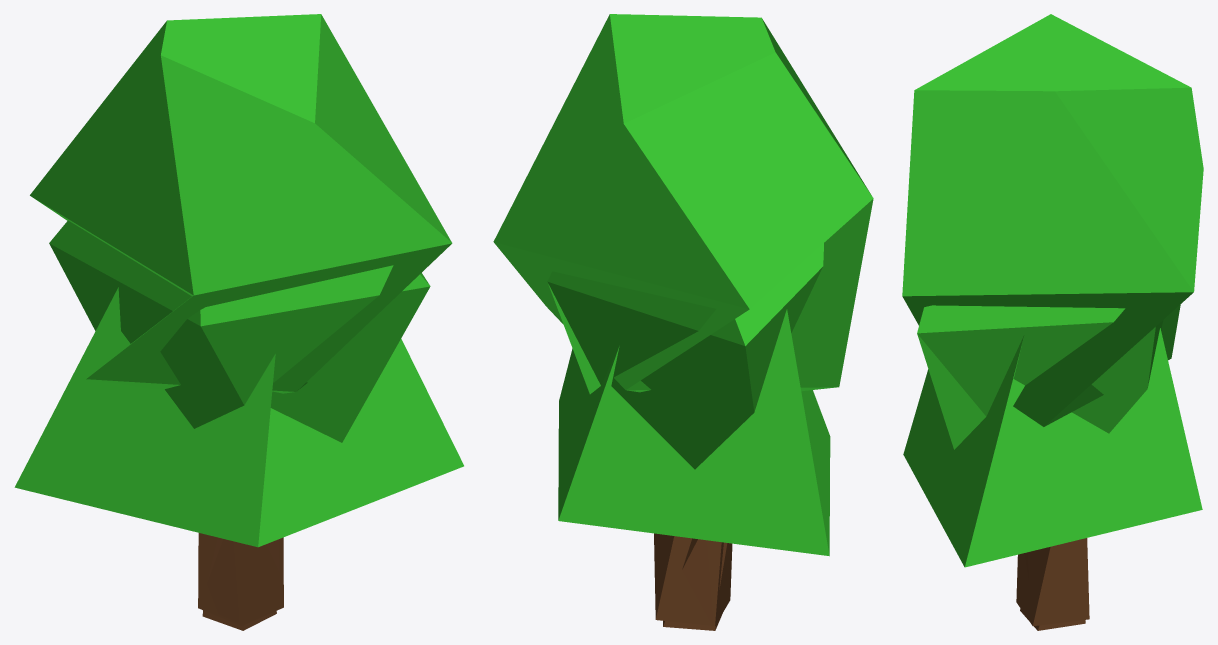
File: TreeModels001.fbx
3 renders of one model, left to right at view 1: azimuth 30°, elevation 25°; view 2: azimuth 150°, elevation 25°; view 3: azimuth 270°, elevation 25°, orthographic. The views are drawn at different scales.
Visible parts, largest first — view 1: Cube.001, Cube, Cube.002; view 2: Cube.001, Cube, Cube.002; view 3: Cube.001, Cube, Cube.002.
Part boxes in pixels (x1,y1,x2,y2): Cube.001: [30, 14, 452, 625]; Cube: [14, 287, 463, 622]; Cube.002: [49, 220, 430, 630]; Cube.001: [493, 14, 873, 626]; Cube: [558, 309, 830, 623]; Cube.002: [547, 243, 823, 630]; Cube.001: [902, 14, 1203, 626]; Cube: [903, 328, 1202, 585]; Cube.002: [917, 305, 1163, 630].
Bounding box in the file's own units: 584 × 901 × 435.
